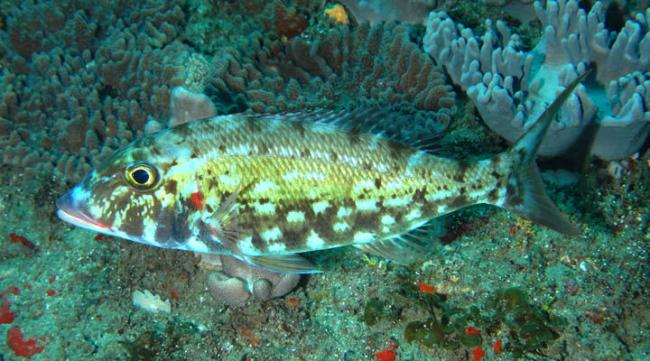fish: (55, 68, 592, 273)
